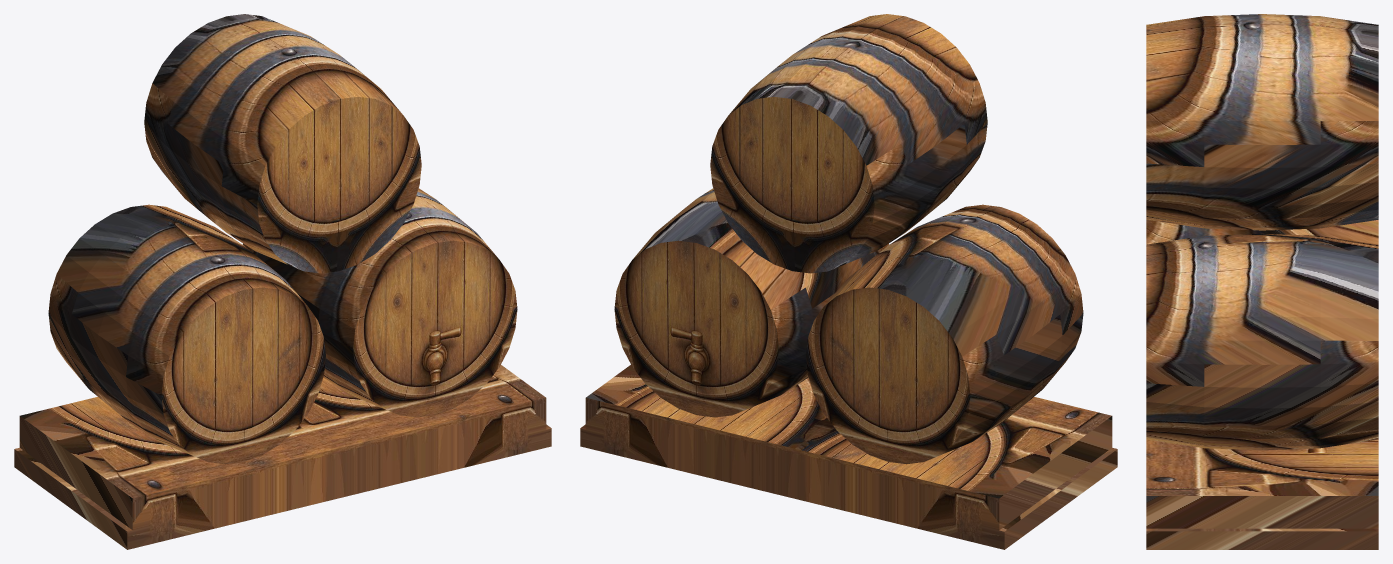
File: v3-tavern-kegs.glb
The picture shows the model from 3 angles, left to right: view 1: azimuth 30°, elevation 25°; view 2: azimuth 150°, elevation 25°; view 3: azimuth 270°, elevation 25°; orthographic projection. The views are drawn at different scales.
Parts seen in each view (by area): view 1: v3-tavern-kegs; view 2: v3-tavern-kegs; view 3: v3-tavern-kegs.
Part boxes in pixels (left/top/right/bottom): v3-tavern-kegs: left=14, top=14, right=551, bottom=549; v3-tavern-kegs: left=580, top=14, right=1117, bottom=549; v3-tavern-kegs: left=1146, top=14, right=1378, bottom=549.
Size of the model in its own units: 1.95 by 1.79 by 0.9.
1 material, 1 textured.
